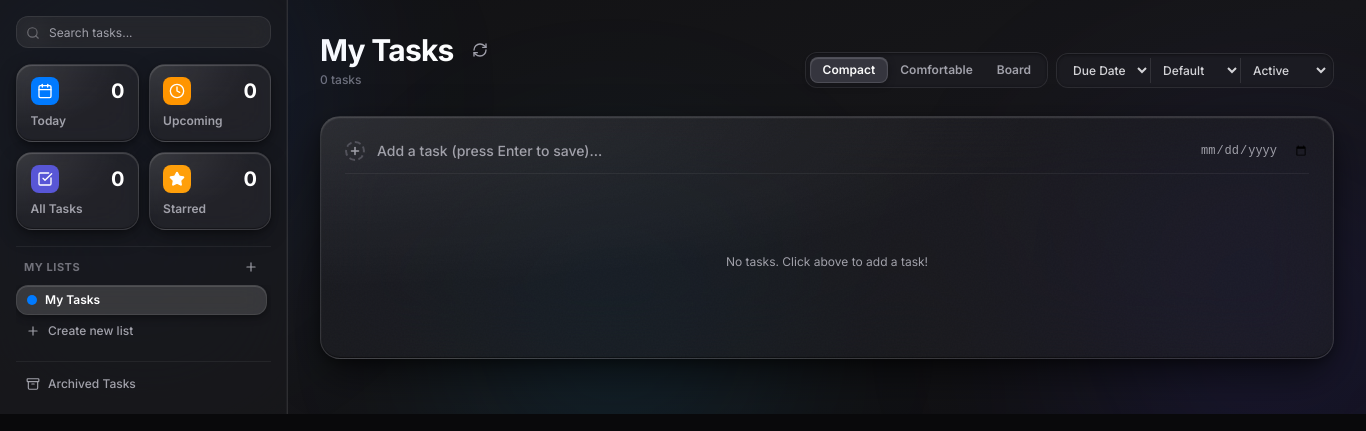
Test: Tasks View Fixes & Reliability › adding a task in Upcoming view assigns tomorrow as default date so it appears in Upcoming view
The width and height of the screenshot is (1366, 431).
// Click Upcoming tile
Click the button "0 Upcoming" at (210, 103), box 148,64 -> 271,142
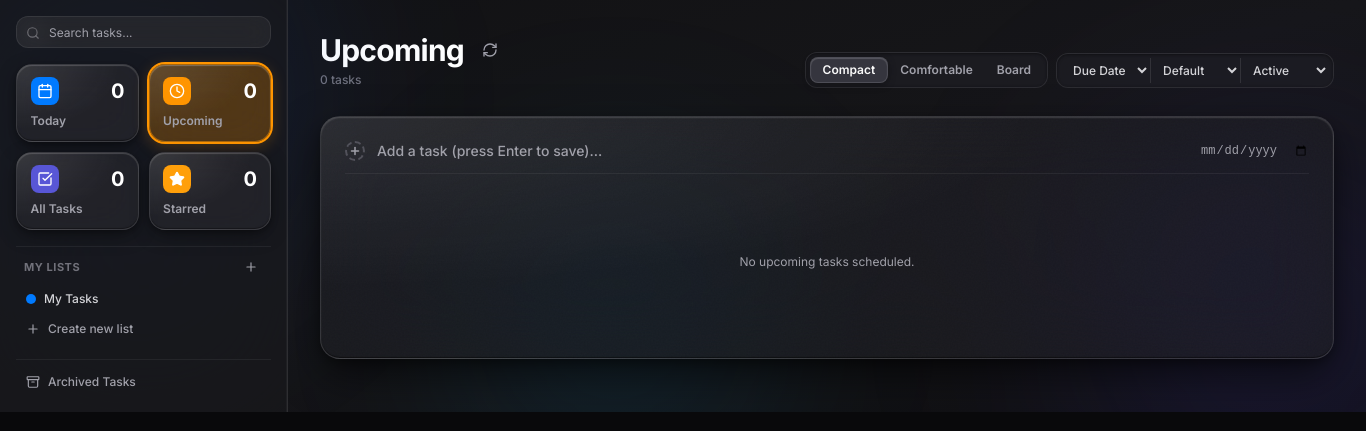
Now the heading "Upcoming" is shown, box 320,32 -> 464,68
// Quick add task without picking a date
Type "Future Event Task" into the field with placeholder "Add a task (press Enter to save)..." at (782, 151), box 377,141 -> 1188,161
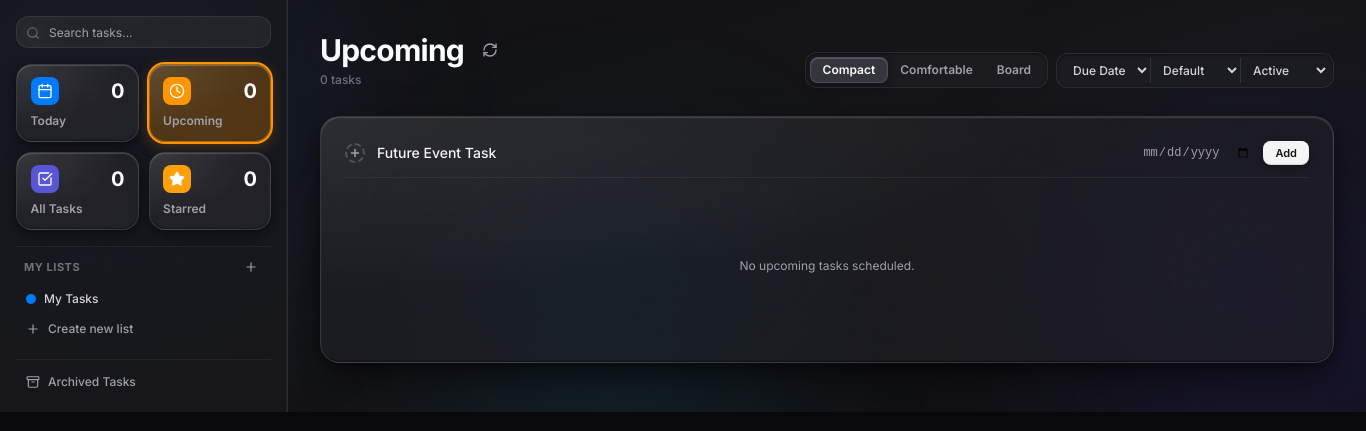
Submit the form with placeholder "Add a task", box 345,141 -> 1309,178
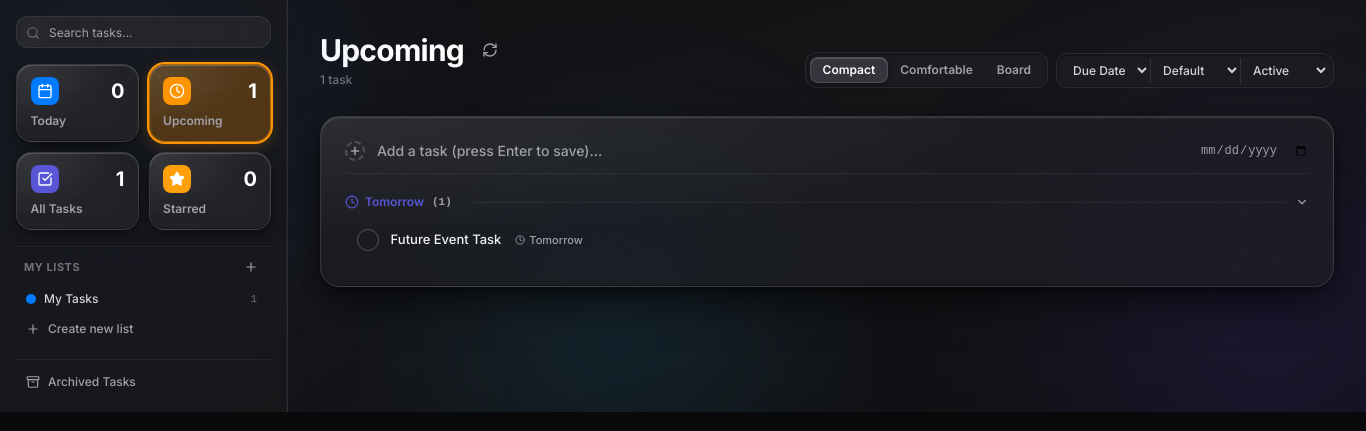
Now the text "Future Event Task" is shown, box 391,230 -> 501,250
